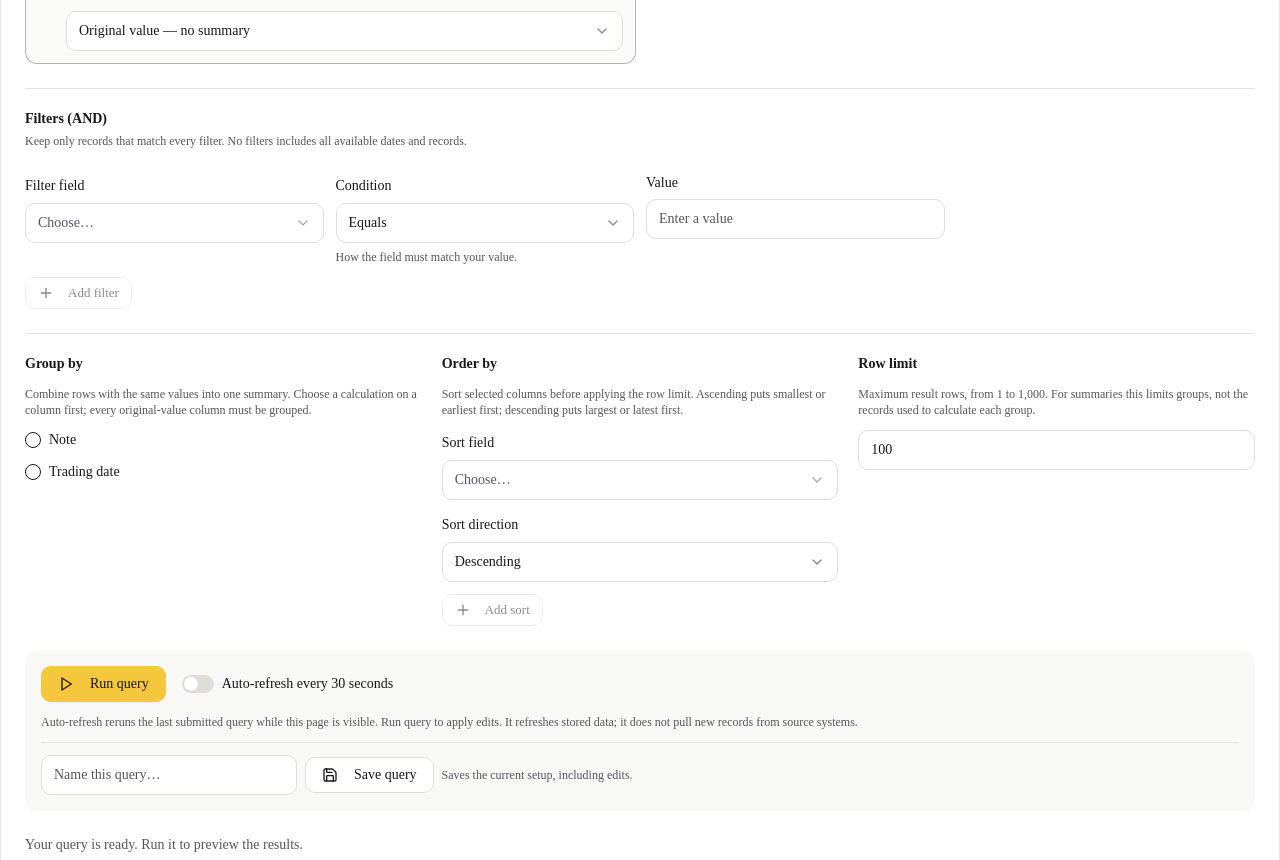
QueryBuilder › keeps the last result when a refresh fails
The image size is (1280, 860).
(page scrolled)
Click the button "Run query": (103, 684) [41,666,166,702]
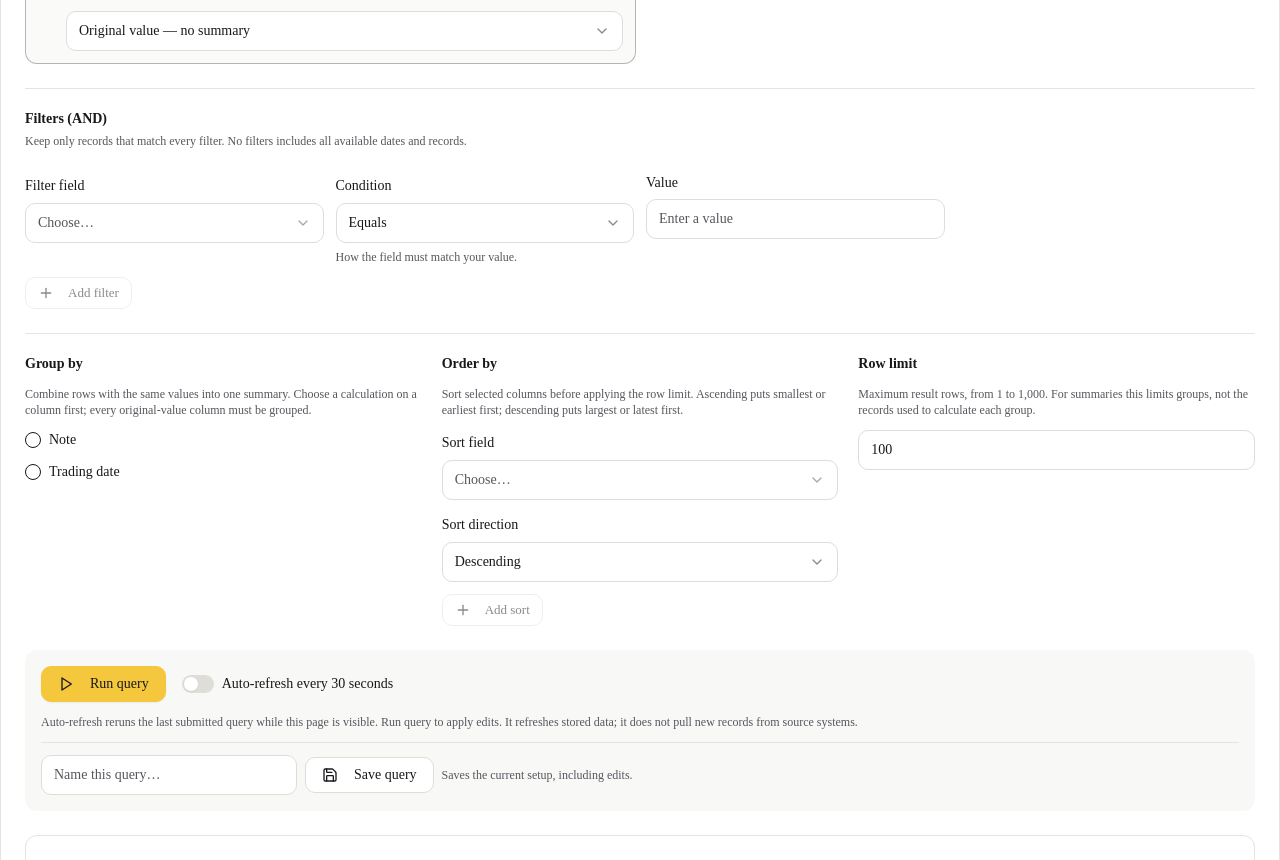
Click the button "Run query": (103, 684) [41,666,166,702]
(page scrolled)
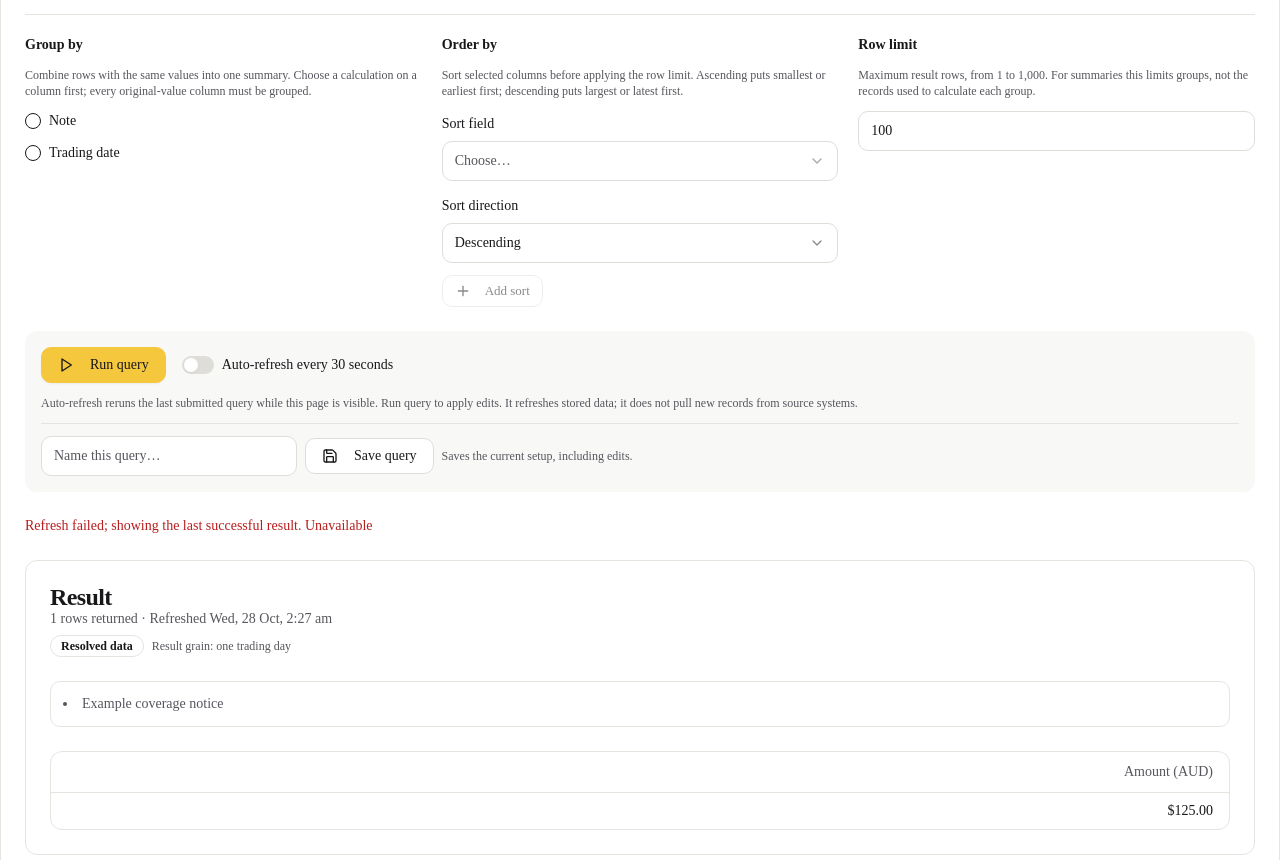
Now the text "$125.00" is shown, box [51,792,1229,828]
Now the text "Refresh failed; showing the last successful result. Unavailable" is shown, box [25,518,373,533]
